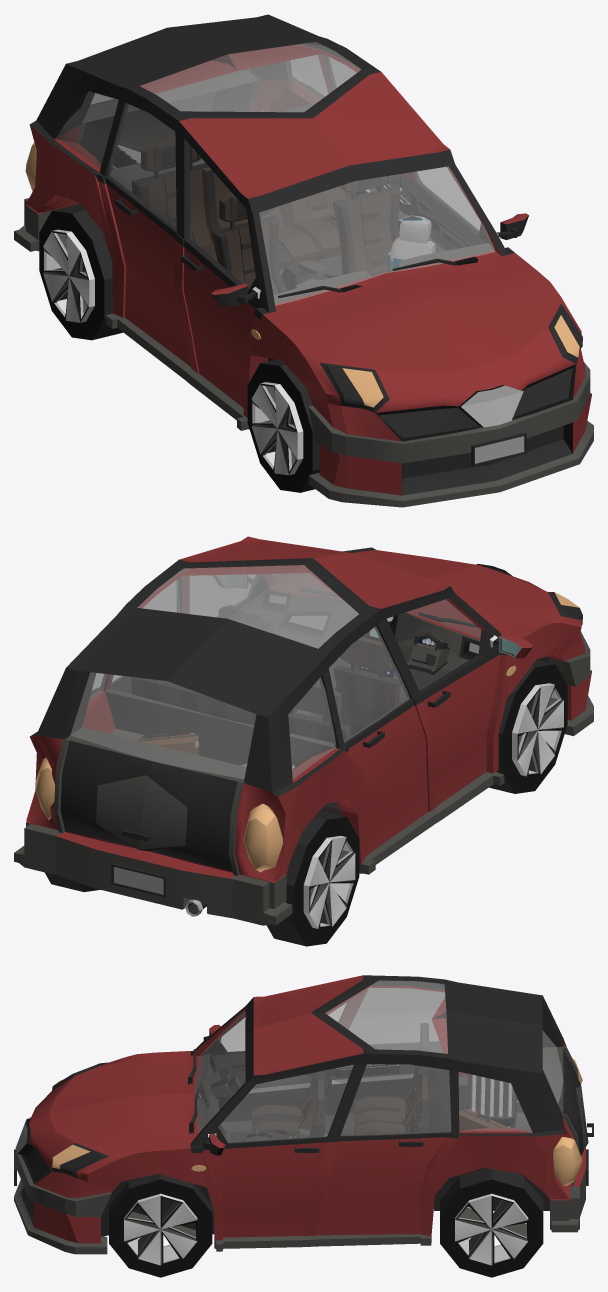
The model's file is carro_final.fbx.
3 views of the same model, one above another, from view 1: azimuth 30°, elevation 25°; view 2: azimuth 150°, elevation 25°; view 3: azimuth 270°, elevation 25° (orthographic). The views are drawn at different scales.
Visible parts, largest first — view 1: carro, roda_4, roda_1; view 2: carro, roda_4, roda_1; view 3: carro, roda_3, roda_2.
Part boxes in pixels (left/top/right/bottom): carro: left=14, top=14, right=593, bottom=507; roda_4: left=39, top=204, right=122, bottom=340; roda_1: left=247, top=359, right=319, bottom=492; carro: left=14, top=536, right=593, bottom=925; roda_4: left=266, top=810, right=359, bottom=946; roda_1: left=489, top=660, right=567, bottom=793; carro: left=14, top=975, right=593, bottom=1254; roda_3: left=440, top=1168, right=543, bottom=1277; roda_2: left=109, top=1174, right=212, bottom=1277.
Size of the model in its own units: 5.58 by 4.58 by 11.07.
